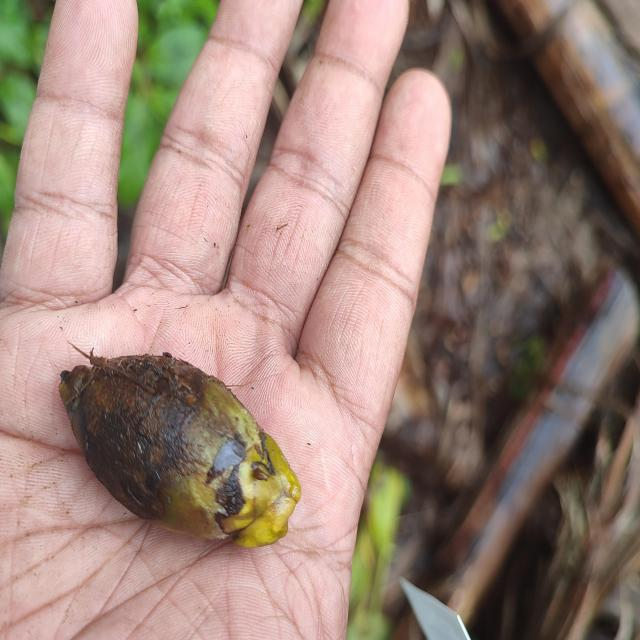damaged: (56, 352, 304, 551)
